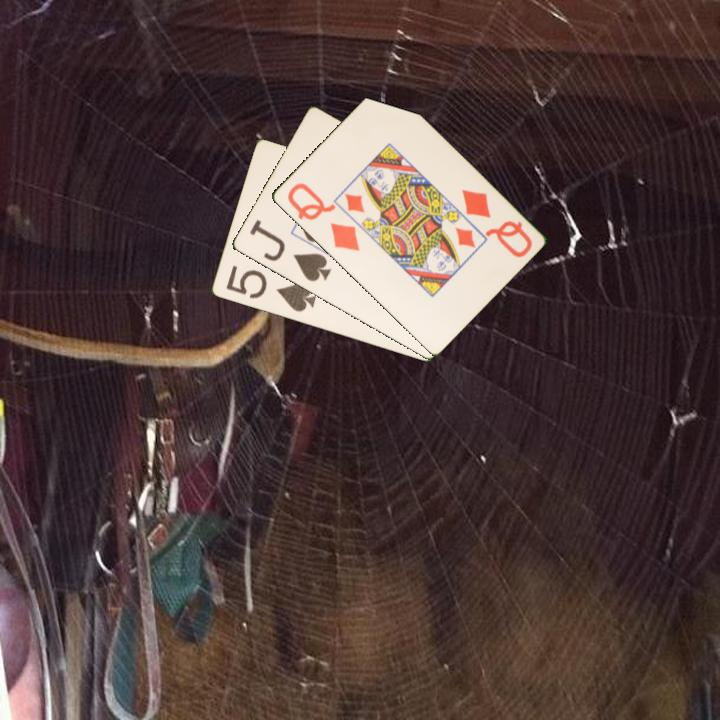5s: (222, 262, 319, 315)
Js: (246, 216, 334, 285)
Qd: (283, 179, 363, 254), (457, 185, 535, 261)
